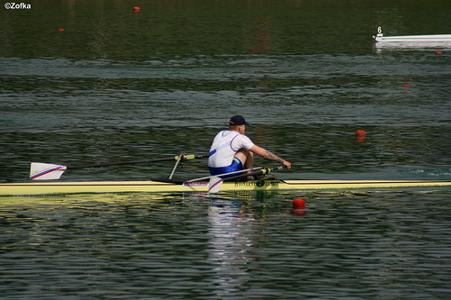person: (206, 117, 293, 181)
